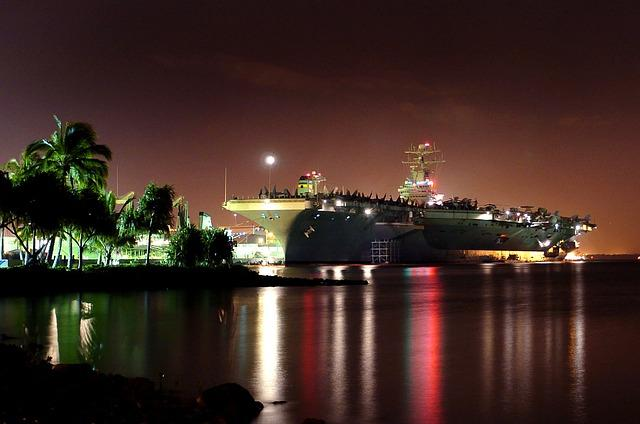MIL_Ship: (215, 144, 597, 265)
